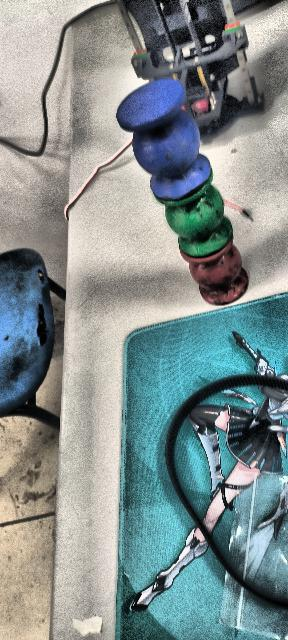blue: (116, 80, 214, 197)
green: (157, 174, 232, 258)
red: (183, 238, 252, 305)
